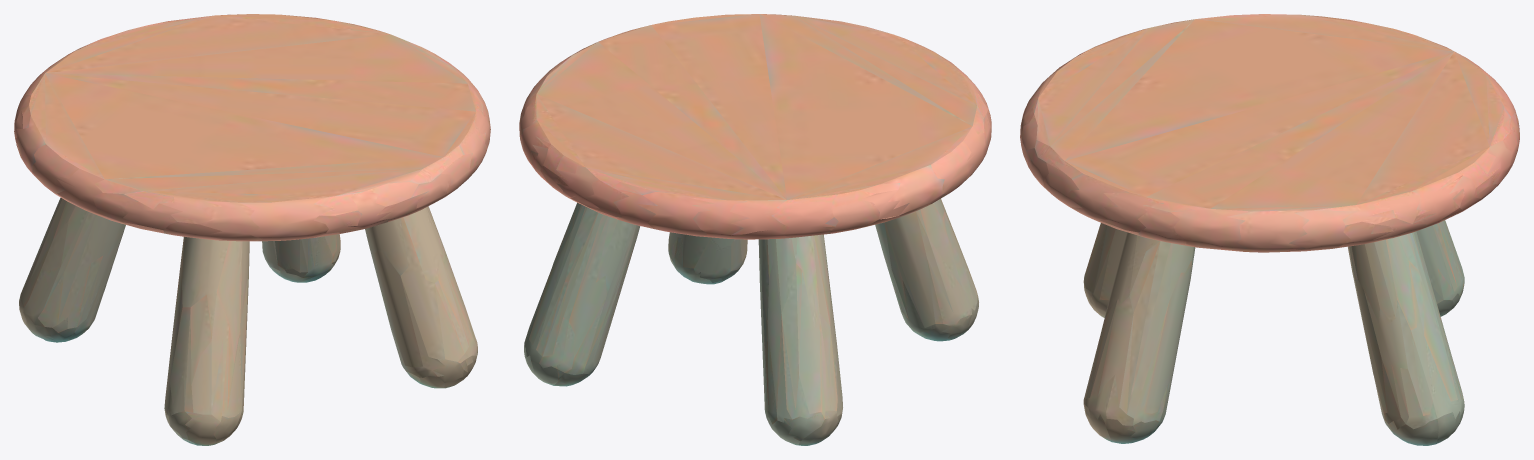
The model's file is table.66b4b172.glb.
The picture shows the model from 3 angles, left to right: view 1: azimuth 30°, elevation 25°; view 2: azimuth 150°, elevation 25°; view 3: azimuth 270°, elevation 25°; orthographic projection. The views are drawn at different scales.
Parts seen in each view (by area): view 1: output_unwrapped; view 2: output_unwrapped; view 3: output_unwrapped.
Part boxes in pixels (x1=…): output_unwrapped: x1=14, y1=14, x2=490, y2=445; output_unwrapped: x1=519, y1=14, x2=991, y2=445; output_unwrapped: x1=1020, y1=14, x2=1519, y2=445.
Size of the model in its own units: 1.9 by 1.12 by 1.9.
Materials: 1 (1 with a texture image).
